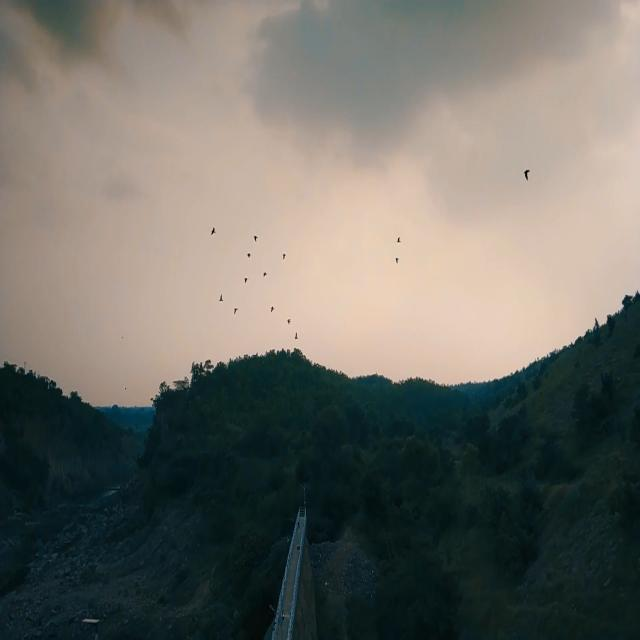bird: (523, 168, 531, 180), (210, 226, 217, 237), (218, 292, 224, 304), (395, 236, 402, 245), (243, 276, 249, 285), (294, 331, 300, 340), (253, 233, 258, 243), (286, 318, 292, 326), (269, 304, 275, 311), (282, 251, 287, 259), (395, 254, 399, 264), (246, 252, 252, 258), (234, 307, 238, 315), (263, 271, 268, 277), (124, 386, 128, 391), (120, 336, 124, 340)
